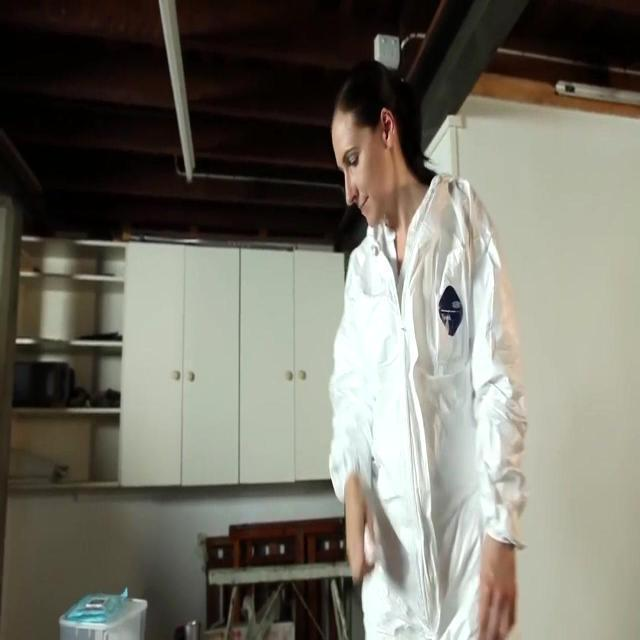no_apron: (330, 478, 388, 586), (483, 533, 516, 640)
no_gloves: (336, 72, 403, 122)
no_hairnet: (343, 176, 394, 217)
